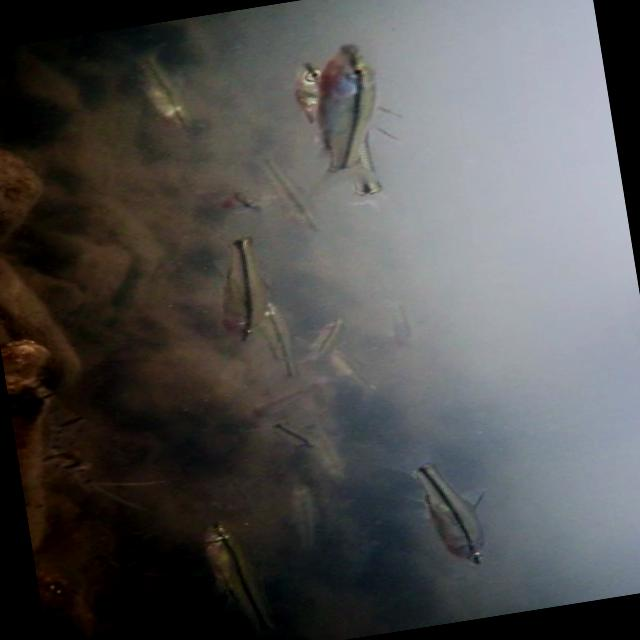Cakil Baligi: (302, 30, 408, 190), (197, 507, 306, 640), (197, 200, 281, 344), (407, 447, 502, 574)
